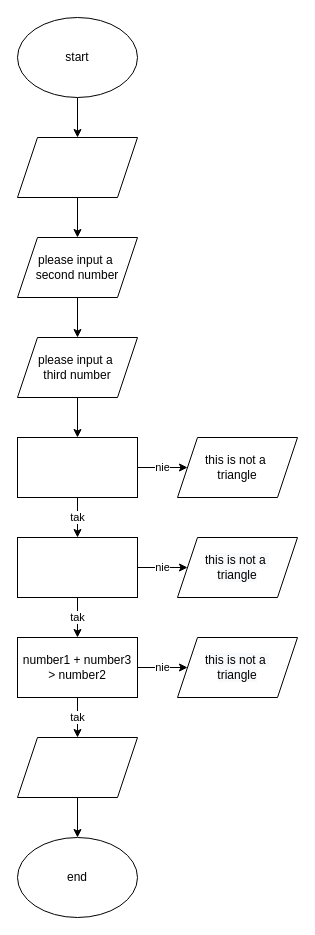
This 315x935 diagram has some shape labels left out. Each missing label, with the centre of its shape:
"number1 + number2 > number3" goes at pixel 77 467.
"number2 + number3 > number1" goes at pixel 77 567.
"please input a number" goes at pixel 77 167.
"this is a triangle" goes at pixel 77 767.
